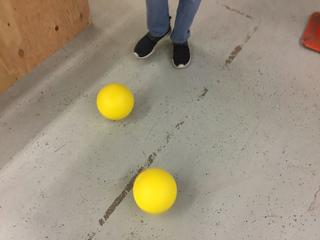power_cell: (131, 164, 179, 213), (95, 81, 138, 124)
